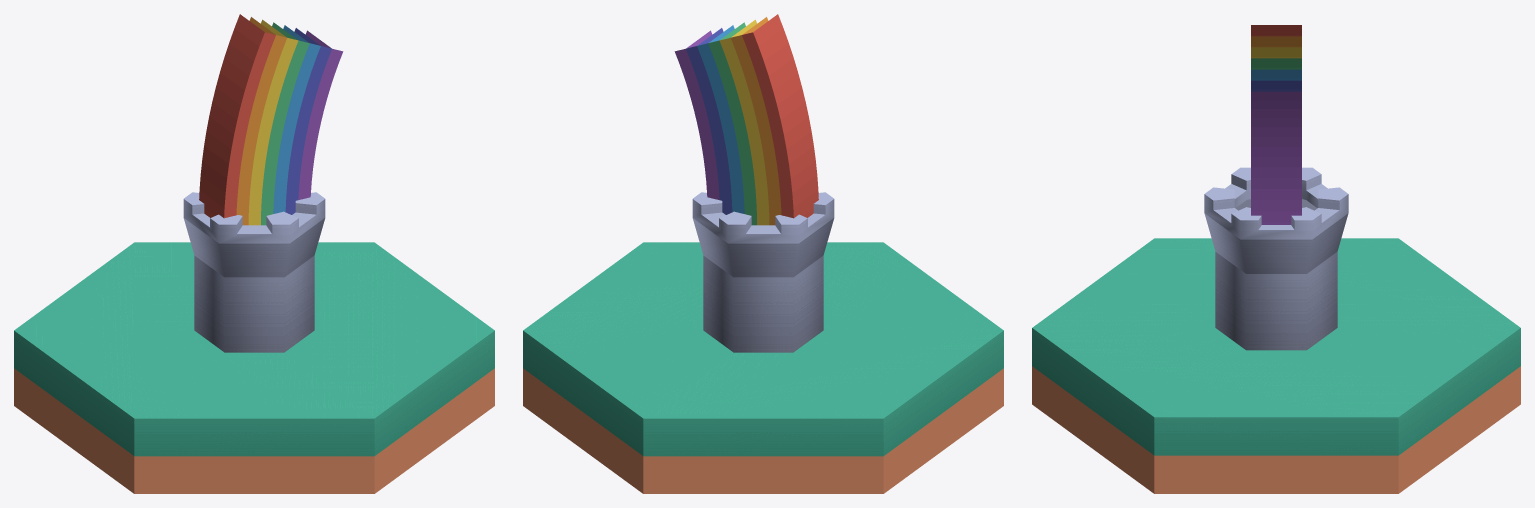
The model's file is grass-wall-tower-rainbow.glb.
3 renders of one model, left to right at view 1: azimuth 30°, elevation 25°; view 2: azimuth 150°, elevation 25°; view 3: azimuth 270°, elevation 25°, orthographic.
Parts seen in each view (by area): view 1: grass, rainbow, unit-wall-tower; view 2: grass, rainbow, unit-wall-tower; view 3: grass, unit-wall-tower, rainbow.
Boxes of the visible parts, x1,y1,x2,y2 form: grass: (14, 242, 494, 493); rainbow: (199, 14, 343, 225); unit-wall-tower: (183, 192, 325, 352); grass: (523, 242, 1003, 493); rainbow: (674, 14, 818, 225); unit-wall-tower: (692, 192, 834, 352); grass: (1032, 238, 1520, 493); unit-wall-tower: (1204, 167, 1348, 350); rainbow: (1251, 25, 1301, 224).
Bounding box in the file's own units: 1 × 1.02 × 1.15.
8 materials, 1 textured.
